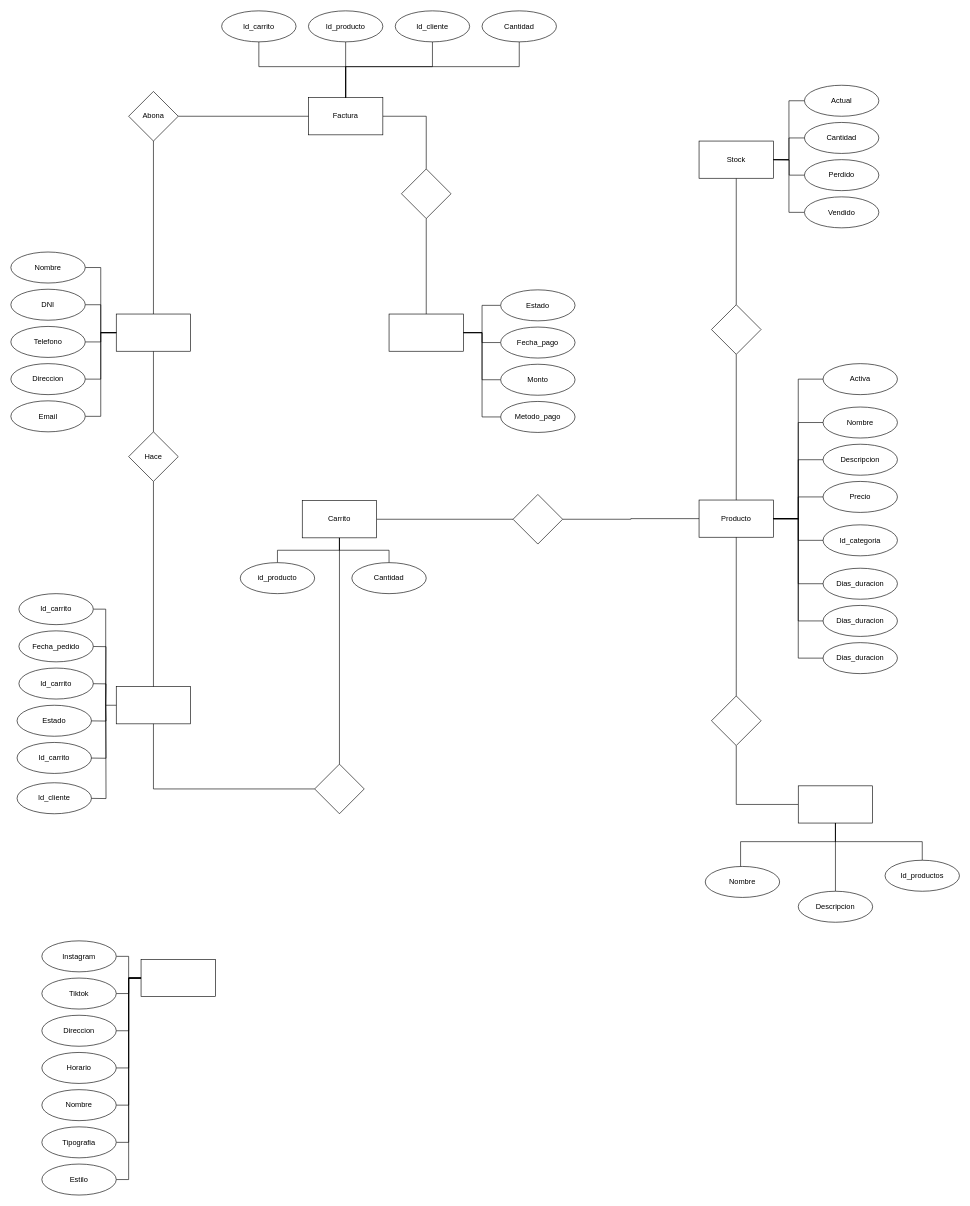
This 970x1206 diagram has some shape labels left out. The centre of each missing label's shape, as x and y in pixels:
Categoria: point 835,804
Clasificar: point 736,720
Cliente: point 153,332
Contar: point 736,329
Contener: point 537,519
Generar: point 339,789
Informacion: point 177,978
Pago: point 425,332
Pedido: point 153,705
Saldada: point 426,193
